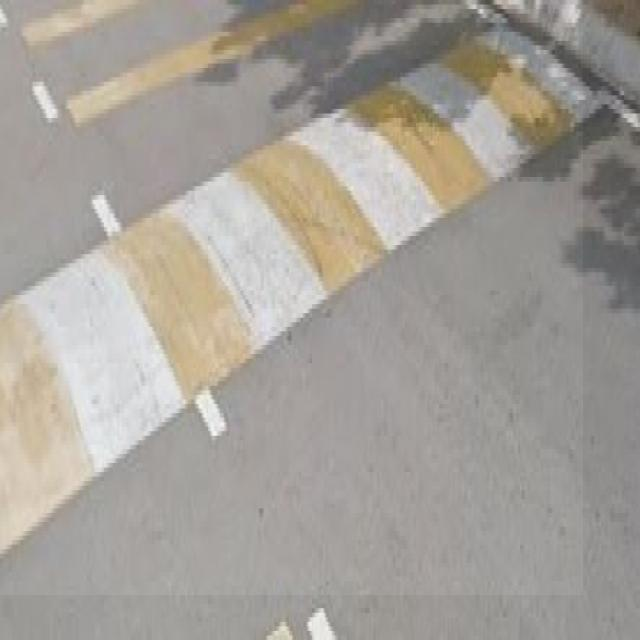speed-bump: (0, 0, 583, 595)
